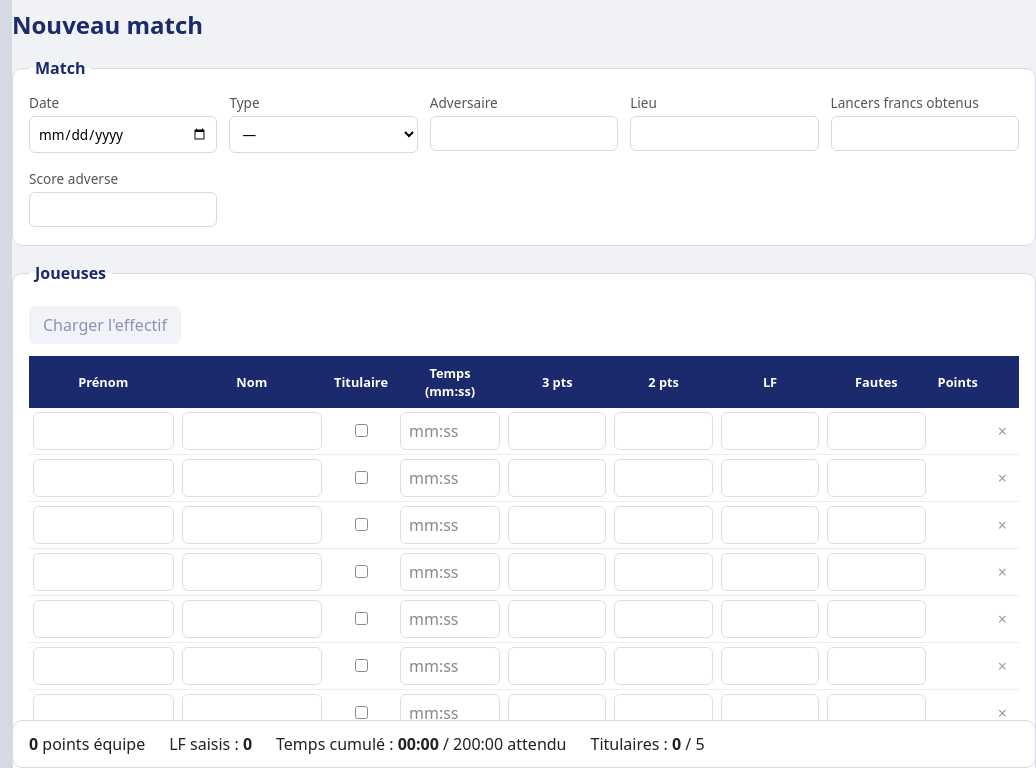
Test: écran de saisie › affiche les points de la joueuse en direct à chaque frappe
Step 1. Type "Alix" into the field named "Prénom ligne 1" → (103, 431), box top-left (33, 412), bottom-right (174, 450)
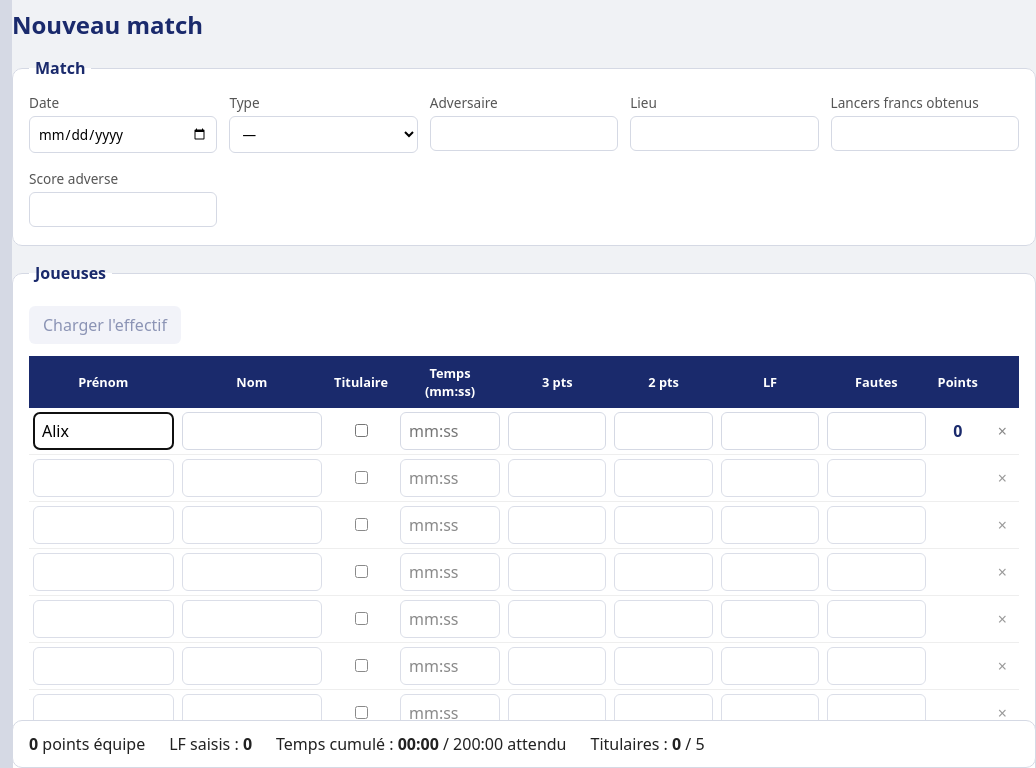
Check: the text named "Points ligne 1" reads "0", box top-left (953, 420), bottom-right (962, 442)
Step 2. Type "2" into the field named "3 pts ligne 1" → (557, 431), box top-left (508, 412), bottom-right (606, 450)
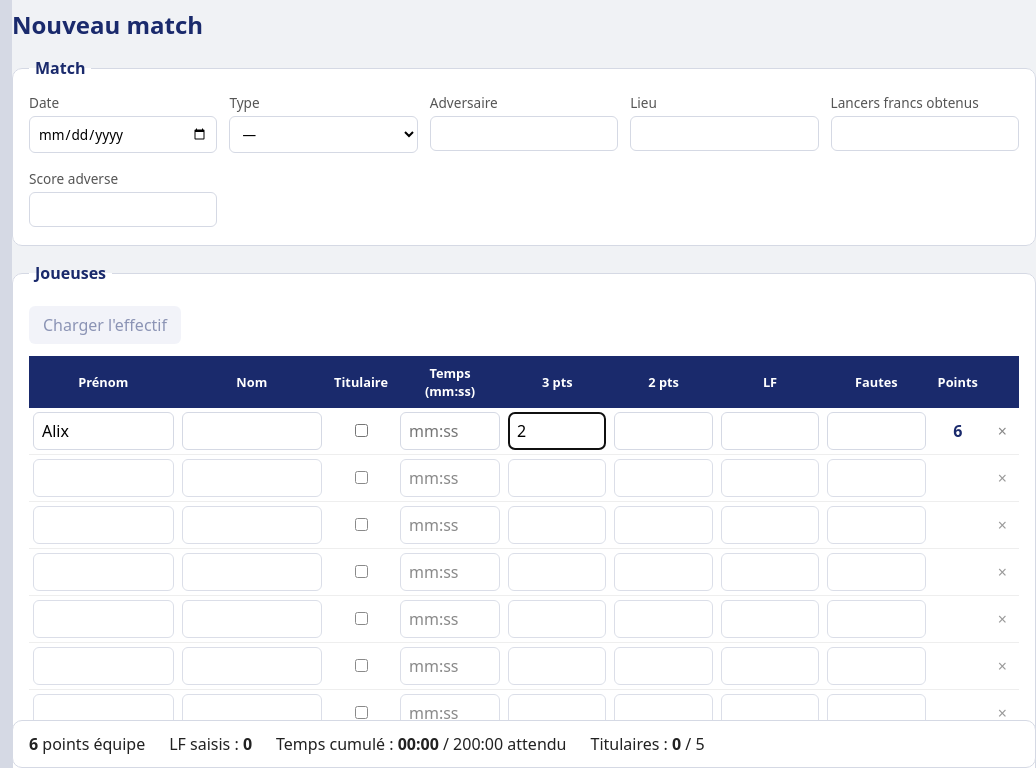
Check: the text named "Points ligne 1" reads "6", box top-left (953, 420), bottom-right (962, 442)
Step 3. Type "4" into the field named "2 pts ligne 1" → (664, 431), box top-left (614, 412), bottom-right (713, 450)
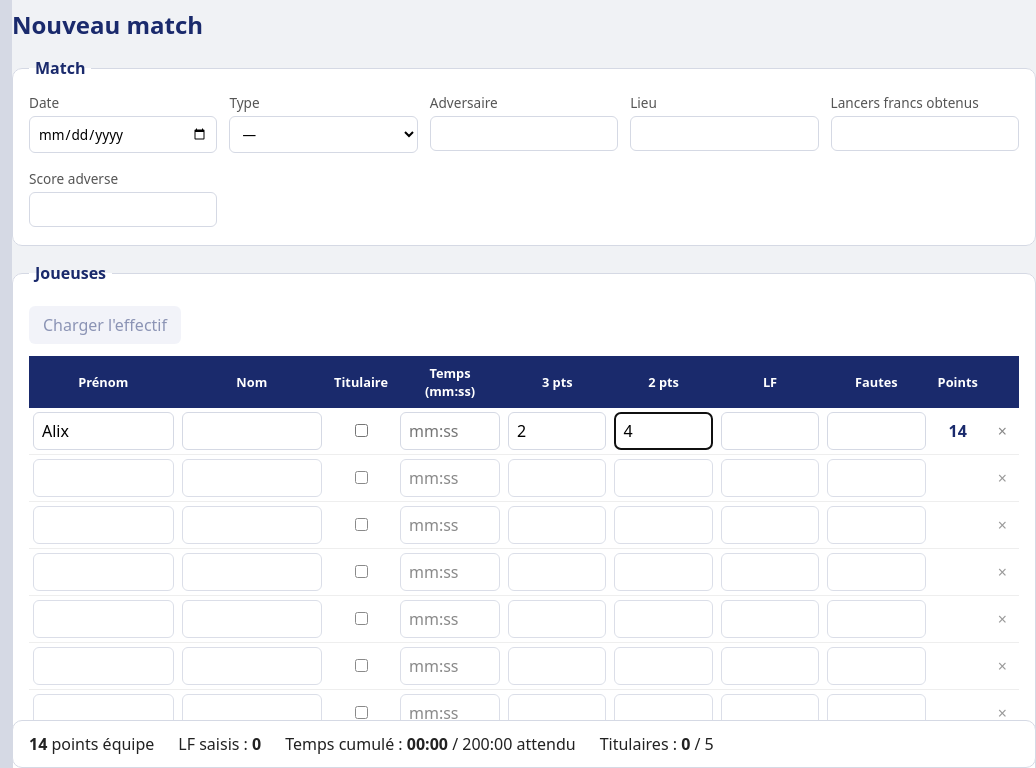
Check: the text named "Points ligne 1" reads "14", box top-left (948, 420), bottom-right (967, 442)
Step 4. Type "3" into the field named "LF ligne 1" → (770, 431), box top-left (721, 412), bottom-right (819, 450)
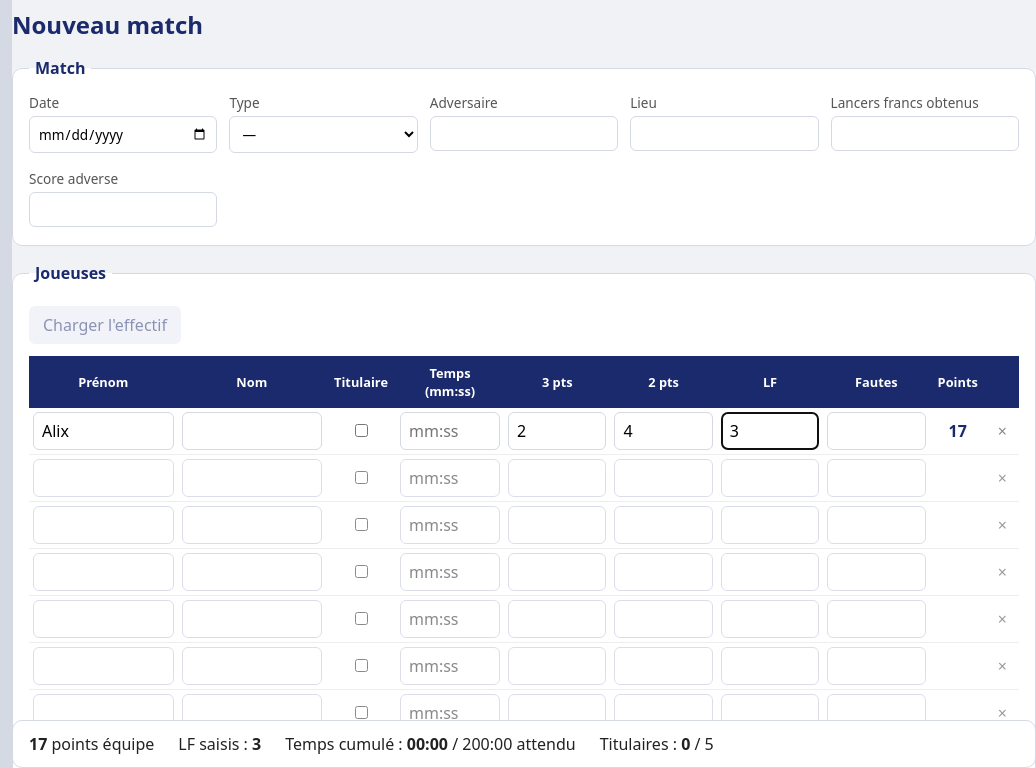
Check: the text named "Points ligne 1" reads "17", box top-left (948, 420), bottom-right (967, 442)
Check: the text "17" next to "points équipe" is shown, box top-left (29, 733), bottom-right (47, 755)
